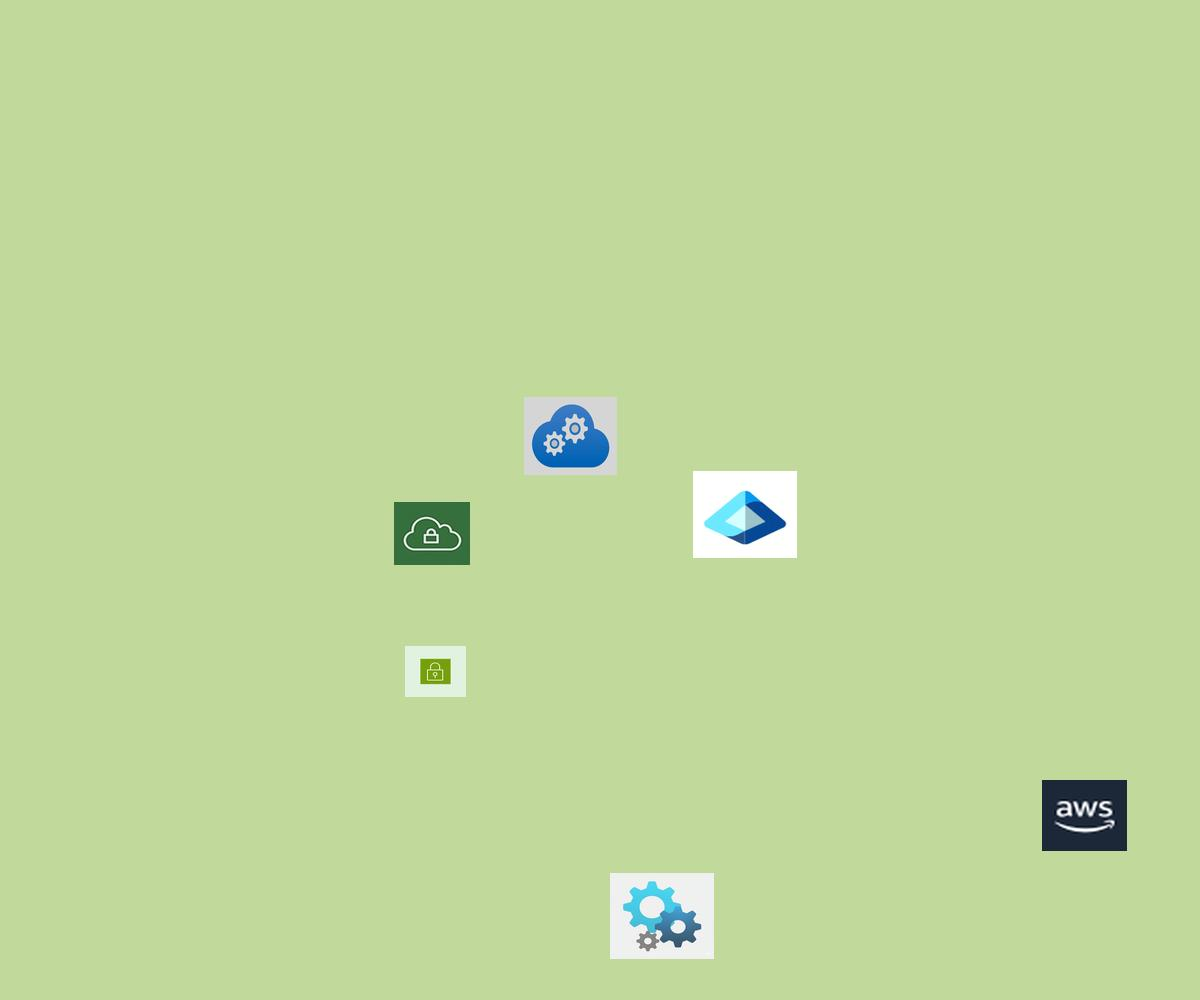AWS-Cloud-logo: (1042, 780, 1127, 851)
AWS-Private_vpc: (394, 502, 470, 565)
AWS-Public-subnet: (405, 646, 466, 697)
Azure_api: (610, 873, 714, 959)
Azure_cloud_services: (524, 397, 617, 475)
Azure_microsoft_entra: (693, 471, 797, 558)
